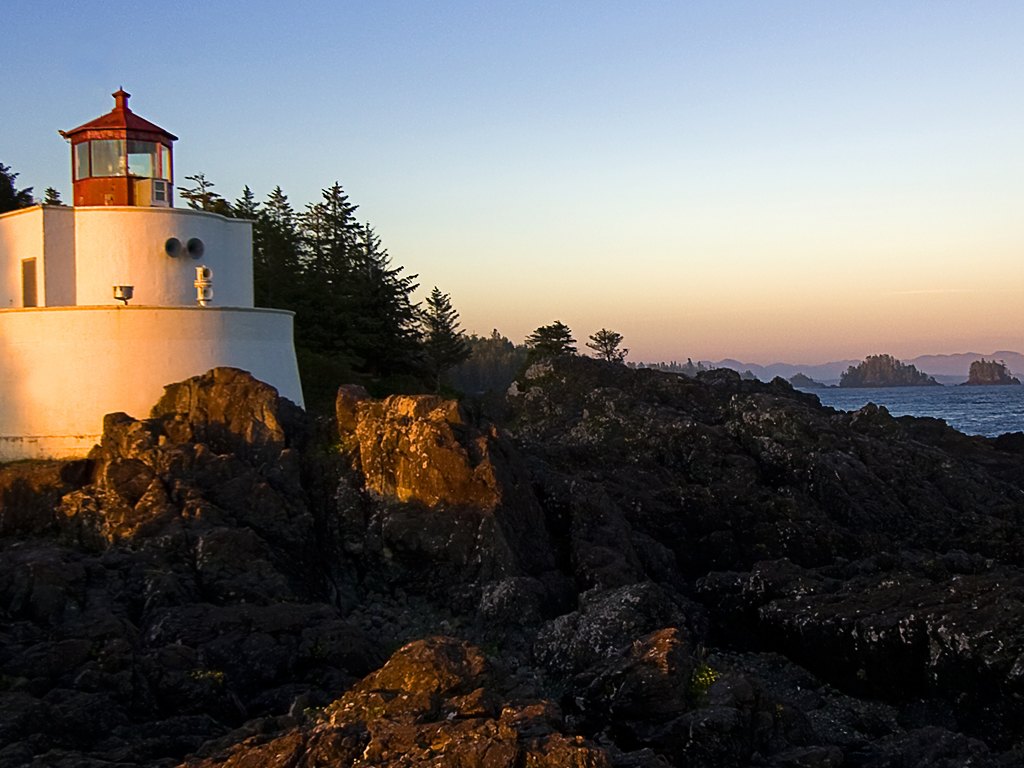Tree: (172, 169, 469, 394), (524, 321, 576, 357), (586, 325, 629, 361)
